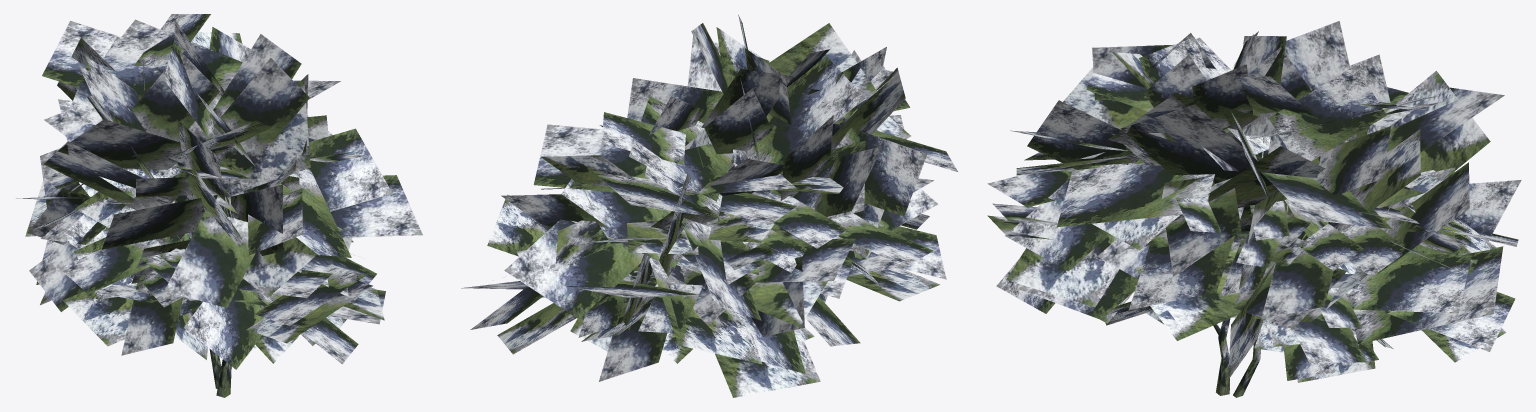
The model's file is tree4-obj.obj.
The picture shows the model from 3 angles, left to right: view 1: azimuth 30°, elevation 25°; view 2: azimuth 150°, elevation 25°; view 3: azimuth 270°, elevation 25°; orthographic projection. The views are drawn at different scales.
Visible parts, largest first — view 1: LOD01; view 2: LOD01; view 3: LOD01.
Part boxes in pixels (x1=…): LOD01: x1=16, y1=14, x2=422, y2=397; LOD01: x1=461, y1=14, x2=957, y2=397; LOD01: x1=987, y1=21, x2=1521, y2=397.
Bounding box in the file's own units: 9.9 × 9.46 × 12.91.
